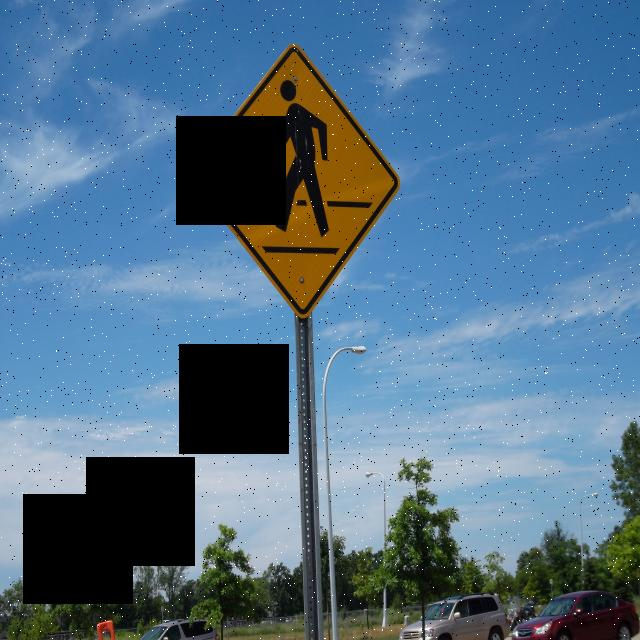warning: (192, 44, 401, 317)
